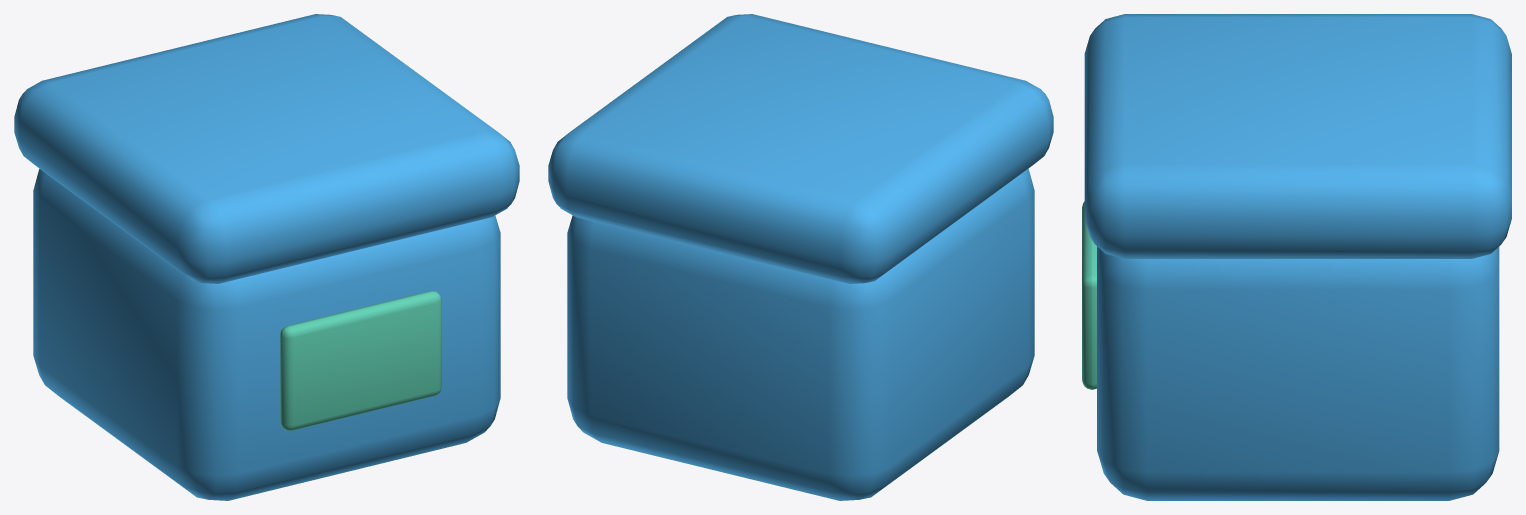
File: caixinha_azul.glb
The picture shows the model from 3 angles, left to right: view 1: azimuth 30°, elevation 25°; view 2: azimuth 150°, elevation 25°; view 3: azimuth 270°, elevation 25°; orthographic projection. The views are drawn at different scales.
Visible parts, largest first — view 1: caixinha_azul; view 2: caixinha_azul; view 3: caixinha_azul.
Boxes of the visible parts, box(x1,y1,x2,y2) form: caixinha_azul: box(14, 14, 519, 500); caixinha_azul: box(548, 14, 1053, 500); caixinha_azul: box(1082, 14, 1511, 500).
Bounding box in the file's own units: 0.085 × 0.075 × 0.0855.
1 material, 1 textured.
